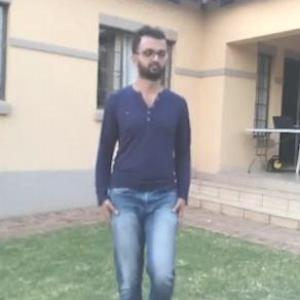follow: (105, 38, 191, 299)
